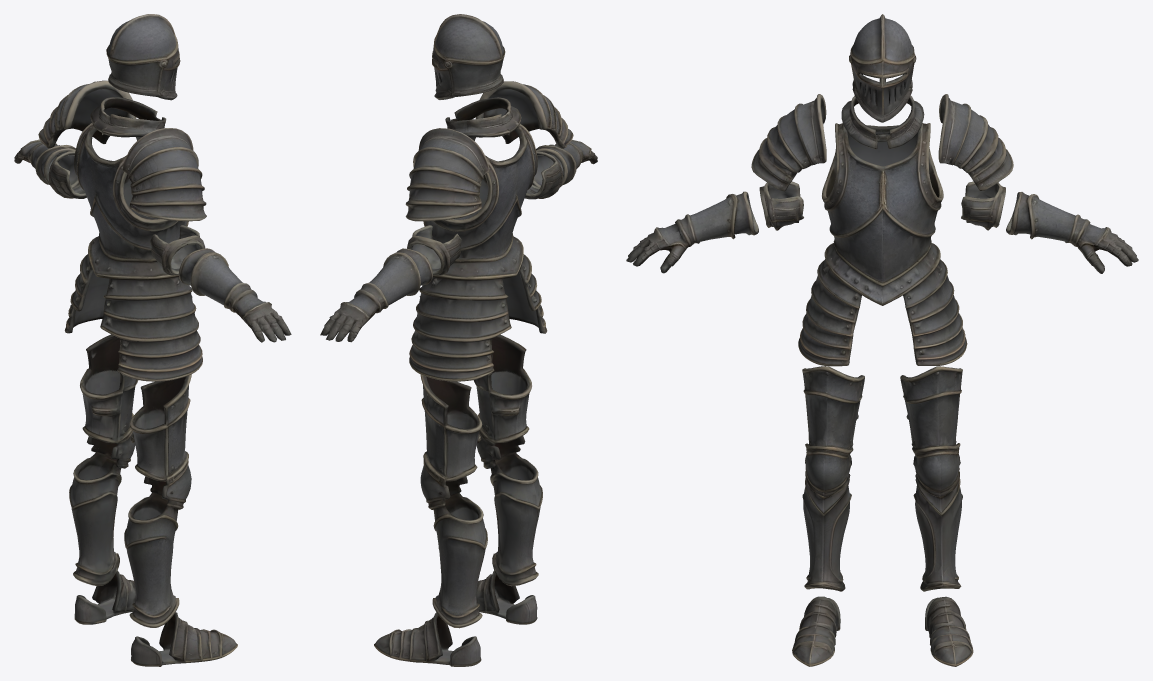
Rendered from armadura.glb.
The picture shows the model from 3 angles, left to right: view 1: azimuth 30°, elevation 25°; view 2: azimuth 150°, elevation 25°; view 3: azimuth 270°, elevation 25°; orthographic projection.
Parts seen in each view (by area): view 1: tripo_part_0, tripo_part_10, tripo_part_2, tripo_part_9, tripo_part_7, tripo_part_1, tripo_part_3, tripo_part_4, tripo_part_8, tripo_part_13, tripo_part_11, tripo_part_6 (+4 smaller); view 2: tripo_part_0, tripo_part_13, tripo_part_1, tripo_part_7, tripo_part_9, tripo_part_2, tripo_part_3, tripo_part_5, tripo_part_6, tripo_part_10, tripo_part_11, tripo_part_8 (+4 smaller); view 3: tripo_part_0, tripo_part_2, tripo_part_1, tripo_part_3, tripo_part_10, tripo_part_13, tripo_part_4, tripo_part_5, tripo_part_7, tripo_part_9, tripo_part_8, tripo_part_6 (+4 smaller).
Part boxes in pixels (<box>): tripo_part_0: <box>64,123,202,381</box>; tripo_part_10: <box>122,128,206,221</box>; tripo_part_2: <box>129,374,191,509</box>; tripo_part_9: <box>124,492,179,627</box>; tripo_part_7: <box>69,452,121,585</box>; tripo_part_1: <box>80,334,138,468</box>; tripo_part_3: <box>106,14,180,100</box>; tripo_part_4: <box>178,248,291,342</box>; tripo_part_8: <box>131,612,237,666</box>; tripo_part_13: <box>38,80,136,148</box>; tripo_part_11: <box>90,97,166,137</box>; tripo_part_6: <box>74,570,135,624</box>; tripo_part_0: <box>409,124,547,381</box>; tripo_part_13: <box>405,128,489,221</box>; tripo_part_1: <box>420,374,482,509</box>; tripo_part_7: <box>432,492,487,628</box>; tripo_part_9: <box>490,452,542,586</box>; tripo_part_2: <box>473,334,531,468</box>; tripo_part_3: <box>432,14,505,99</box>; tripo_part_5: <box>320,248,432,342</box>; tripo_part_6: <box>374,612,481,666</box>; tripo_part_10: <box>475,81,573,148</box>; tripo_part_11: <box>445,97,521,137</box>; tripo_part_8: <box>476,570,537,624</box>; tripo_part_0: <box>798,123,967,366</box>; tripo_part_2: <box>802,366,864,496</box>; tripo_part_1: <box>900,366,962,496</box>; tripo_part_3: <box>849,14,916,122</box>; tripo_part_10: <box>751,94,826,191</box>; tripo_part_13: <box>938,94,1013,190</box>; tripo_part_4: <box>626,191,758,273</box>; tripo_part_5: <box>1006,192,1138,273</box>; tripo_part_7: <box>913,478,962,591</box>; tripo_part_9: <box>802,478,851,591</box>; tripo_part_8: <box>792,596,840,666</box>; tripo_part_6: <box>925,596,973,666</box>.
Size of the model in its own units: 0.1928 by 1 by 0.7474.
Materials: 16 (16 with a texture image).
